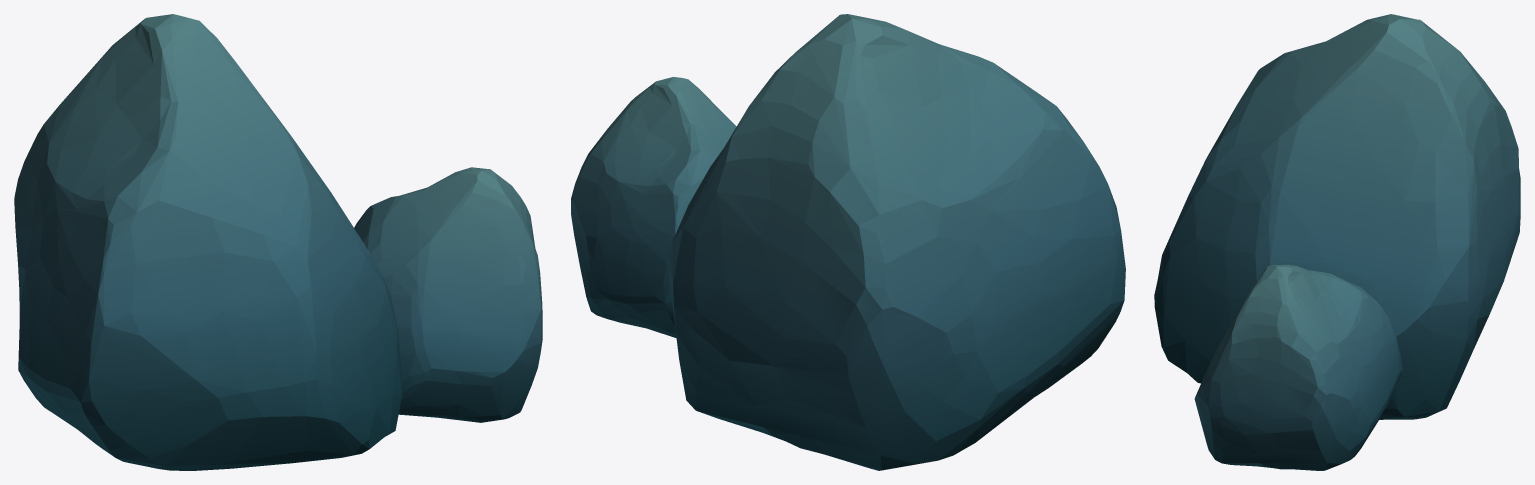
File: Props_Rocks_Small_0_1.fbx
3 views of the same model, side by side, from view 1: azimuth 30°, elevation 25°; view 2: azimuth 150°, elevation 25°; view 3: azimuth 270°, elevation 25° (orthographic). The views are drawn at different scales.
Visible parts, largest first — view 1: Rock3_Prop_0_1.017; view 2: Rock3_Prop_0_1.017; view 3: Rock3_Prop_0_1.017.
Boxes of the visible parts, bbox=[...] form: Rock3_Prop_0_1.017: bbox=[14, 14, 542, 470]; Rock3_Prop_0_1.017: bbox=[571, 14, 1125, 470]; Rock3_Prop_0_1.017: bbox=[1154, 14, 1520, 470].
Size of the model in its own units: 169 by 131 by 125.
